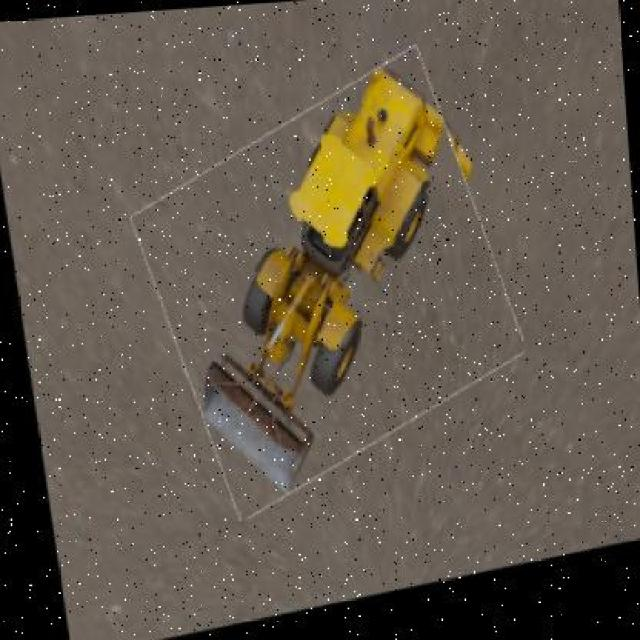buldozerpayloadergrader: (183, 60, 466, 498)
